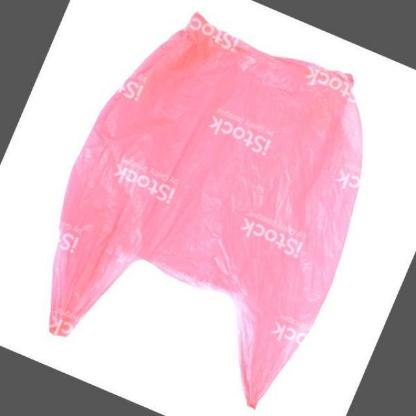Plastic Bag: (48, 11, 364, 408)
